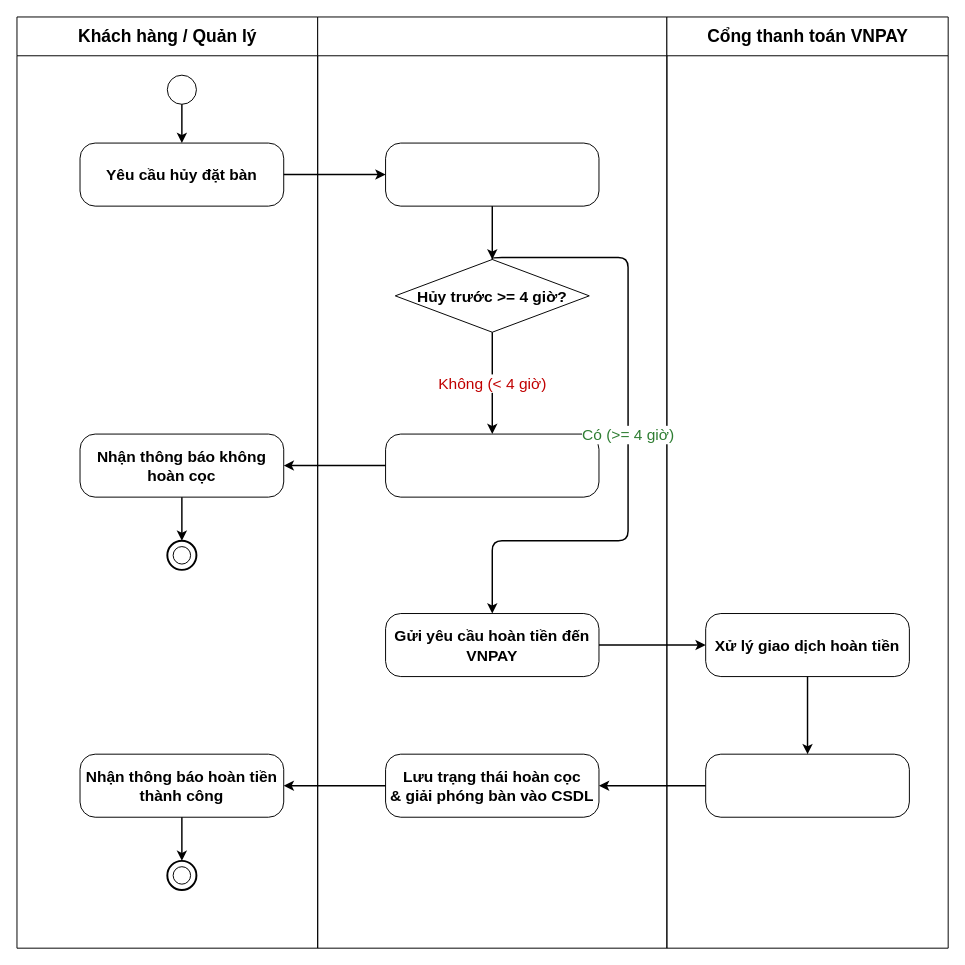
The diagram is 965 pixels wide and 965 high, and some of its shapes have lost their labels. Here are the shapes that lost their labels. From the top down, the box of each, then its label:
(385, 142, 599, 206): Kiểm tra thời gian hẹn
(385, 433, 599, 497): Lưu trạng thái hủy cọc & giải phóng bàn vào CSDL
(317, 16, 667, 948): Hệ thống
(705, 753, 909, 817): Xác nhận hoàn tiền thành công
